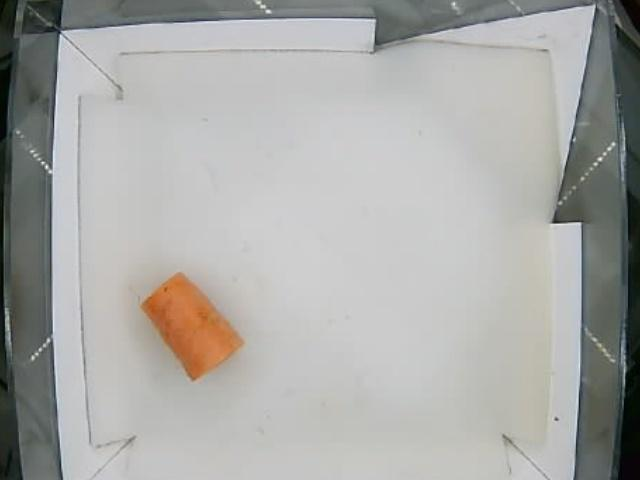Carrot: (142, 271, 246, 382)
